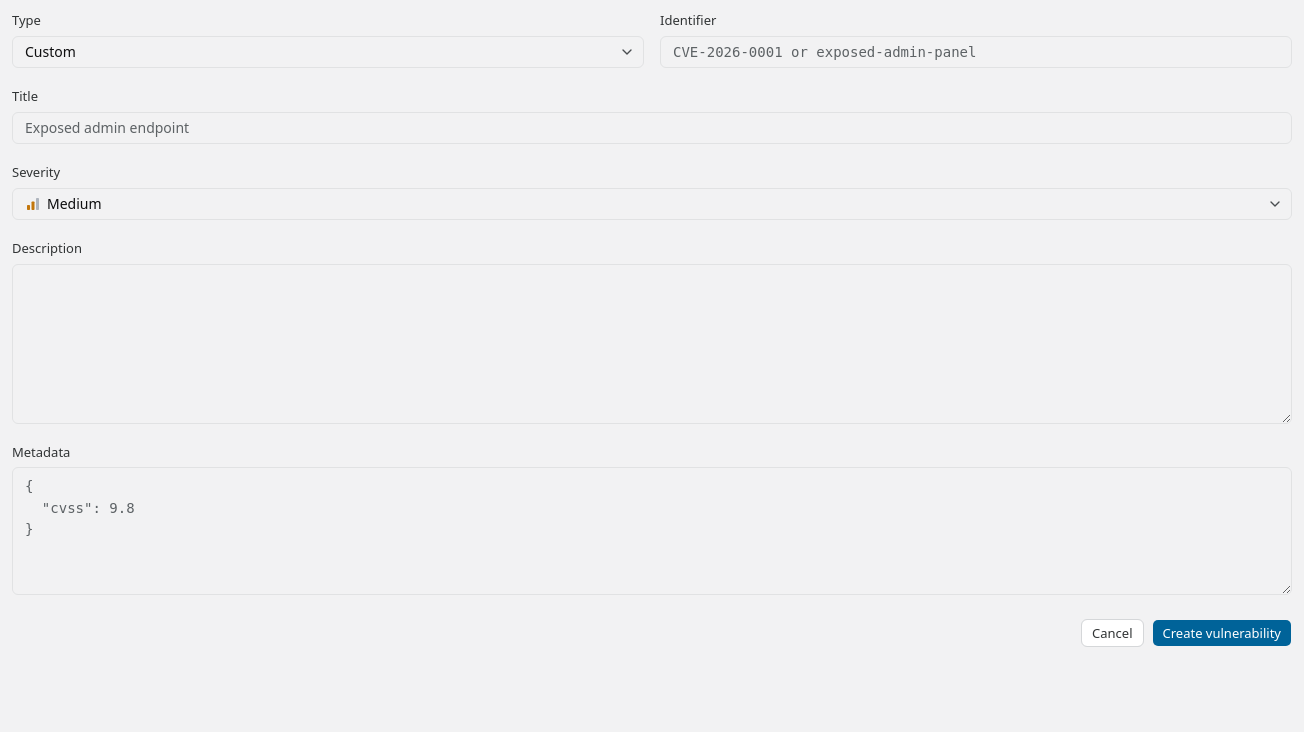
Test: VulnerabilityForm › shows validation errors for invalid values
Click the button "Create vulnerability". click: (1222, 633)
box: left=1152, top=619, right=1292, bottom=647
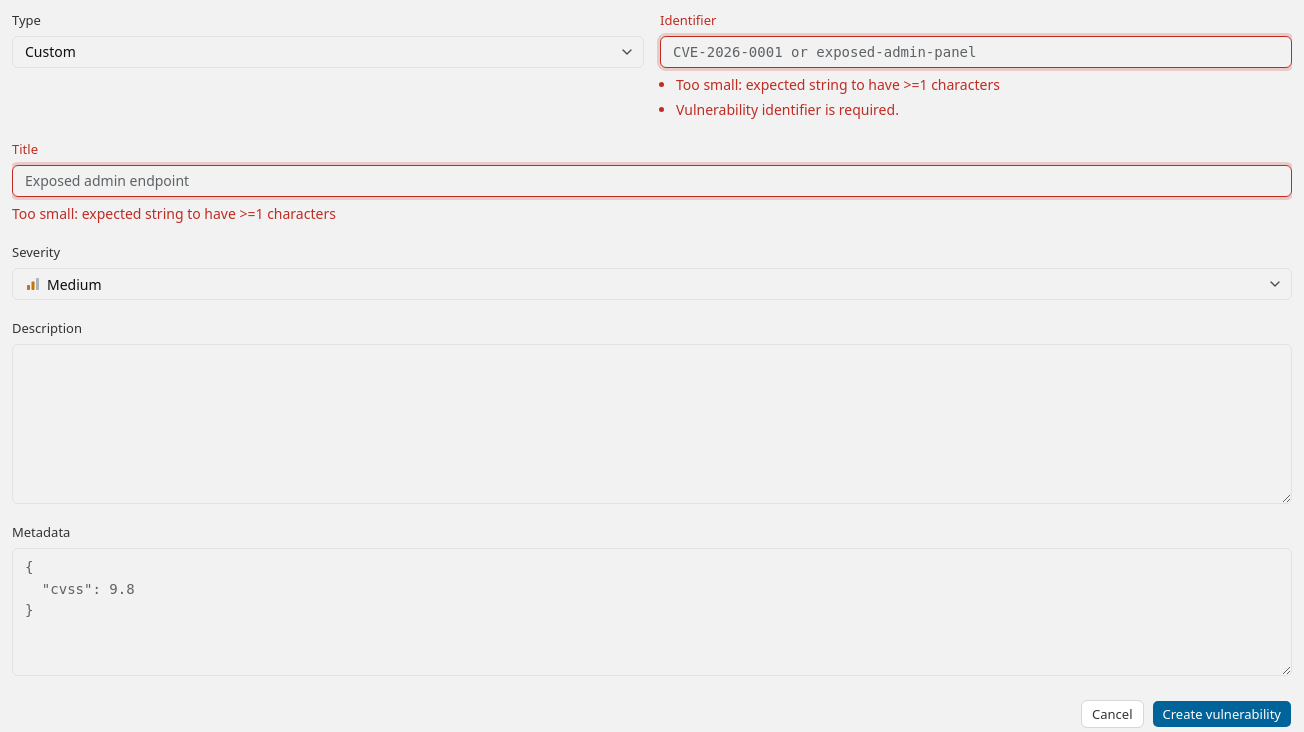
Expected: the 1st message is shown, left=676, top=75, right=1000, bottom=119
